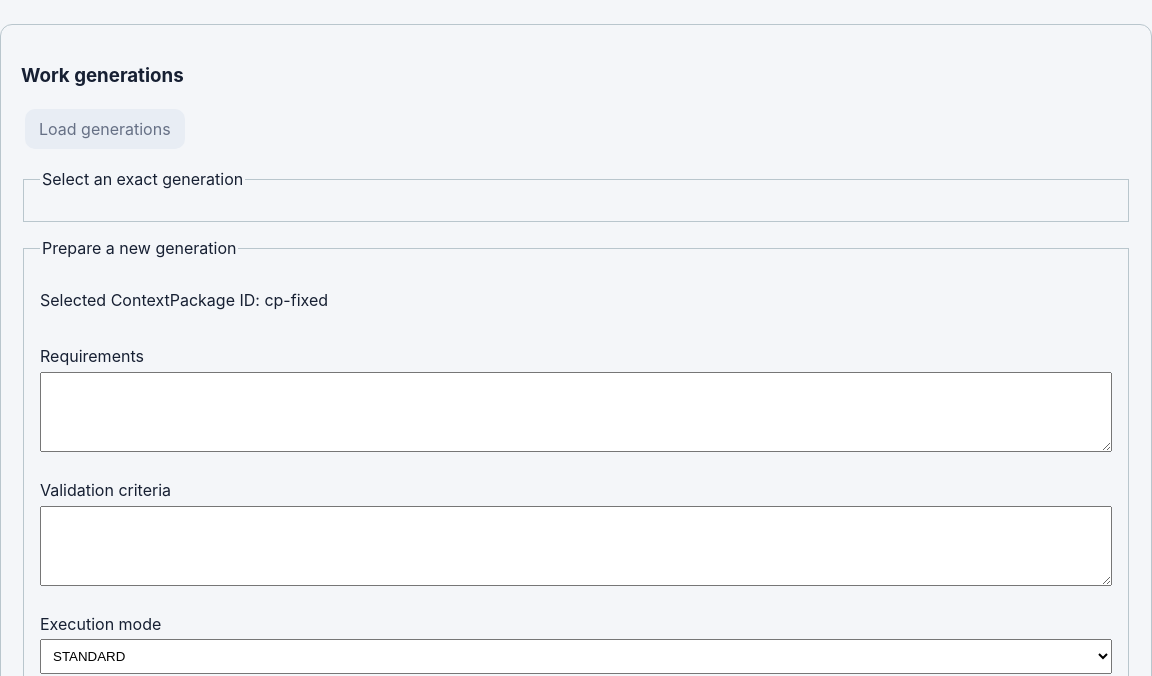
explicit generation workflow › keeps unknown ownership fail-closed and exposes refresh errors
The width and height of the screenshot is (1152, 676).
Click the button "Load generations" at point(105, 129), box [25, 109, 185, 149]
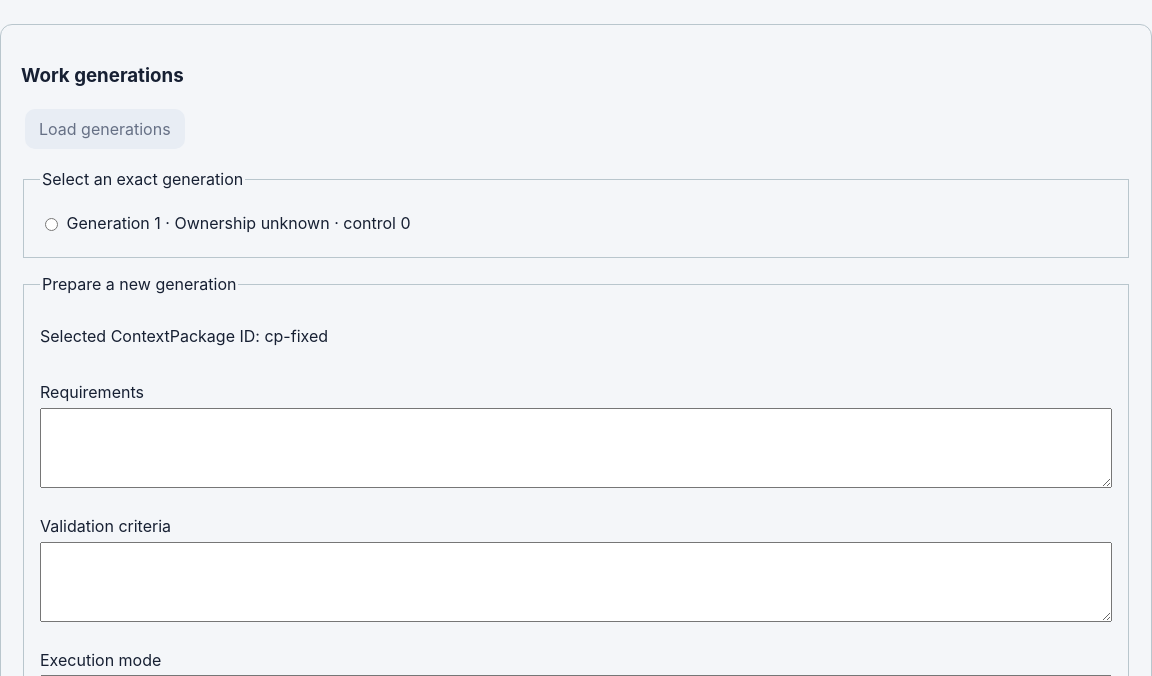
Click the radio button named "generation" at point(52, 225), box [45, 218, 58, 231]
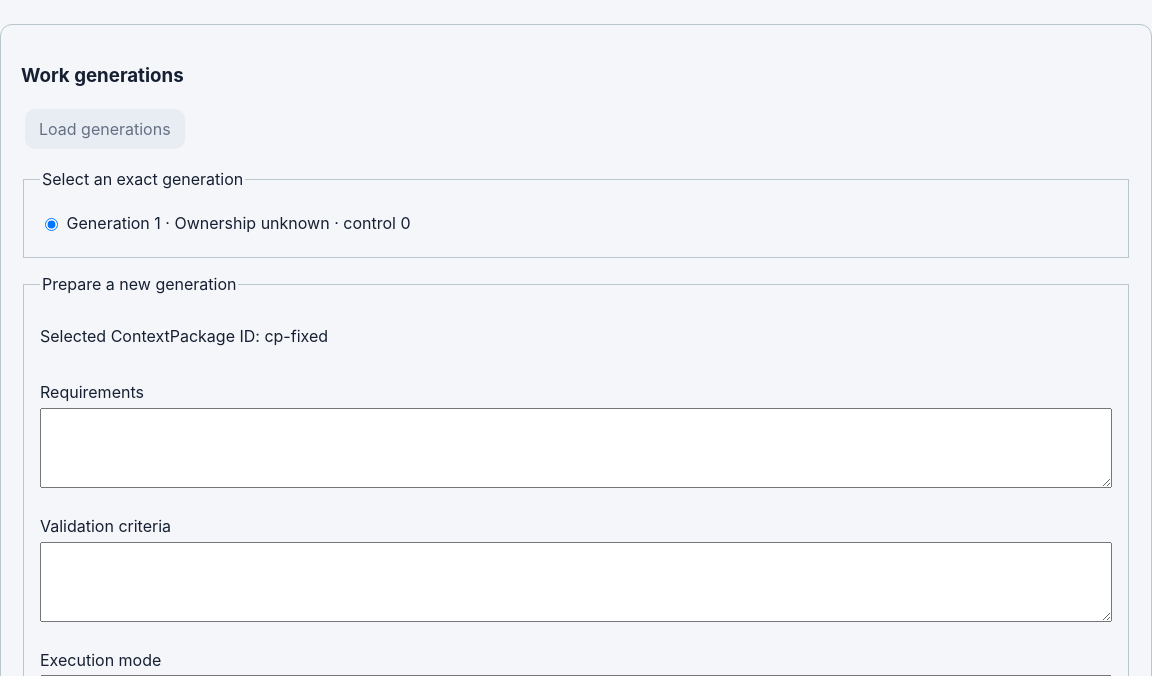
Click the button "Load generations" at point(105, 129), box [25, 109, 185, 149]
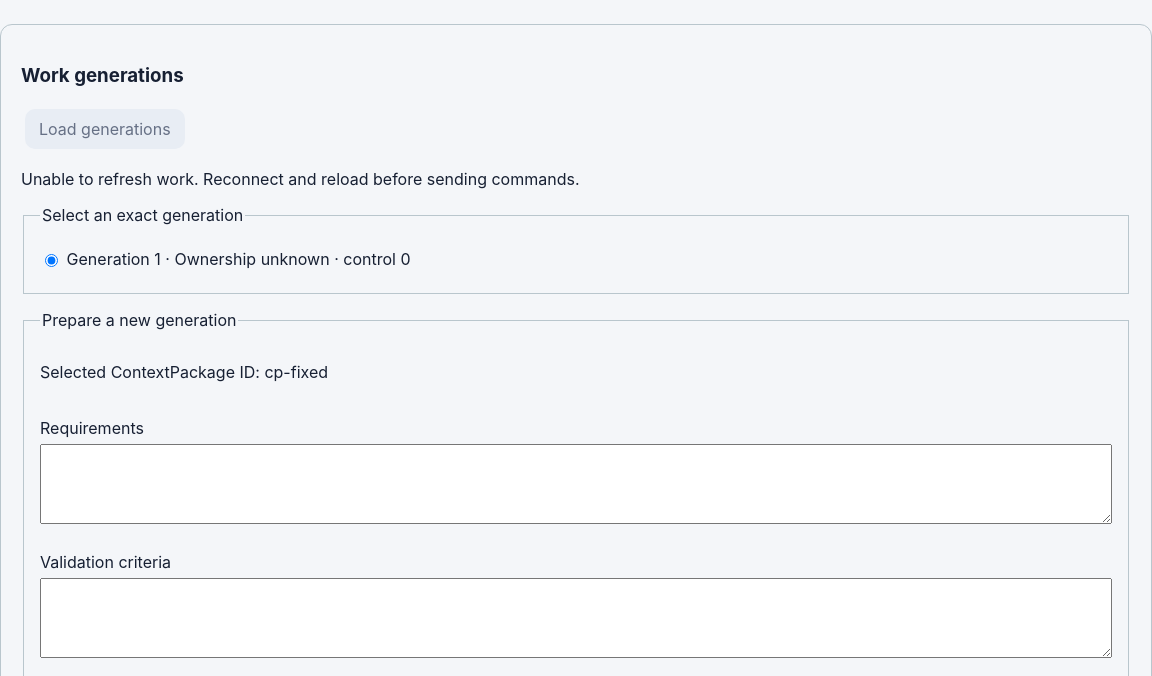
Now the message "Unable to refresh work. Reconnect and reload before sending commands." is shown, box [21, 169, 580, 189]
